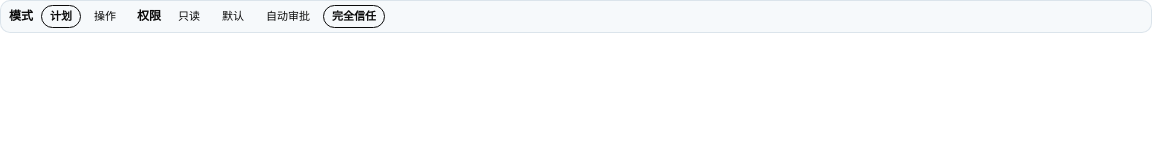
ModeBar：codex toggle chips 与完全信任二次确认（2026-09-23 / 2026-10-10 二版） › 当前档是完全信任且可点：点它先武装确认条（不直接发）——零请求 + mode-bypass-confirm 在场
Click the button with test id "mode-switch-permission-bypass" at coordinates (354, 16), box [323,5,385,28]
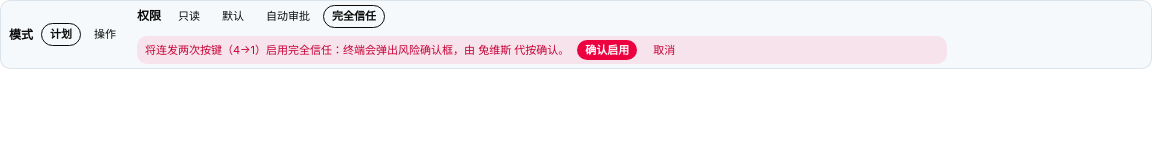
Check: the element with test id "mode-bypass-confirm" is shown, box [137,36,947,64]
